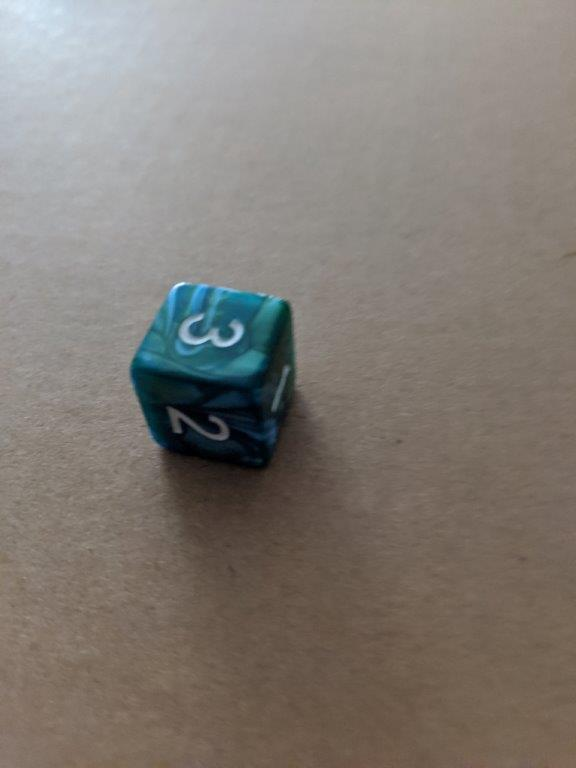d6-3: (127, 280, 299, 475)
